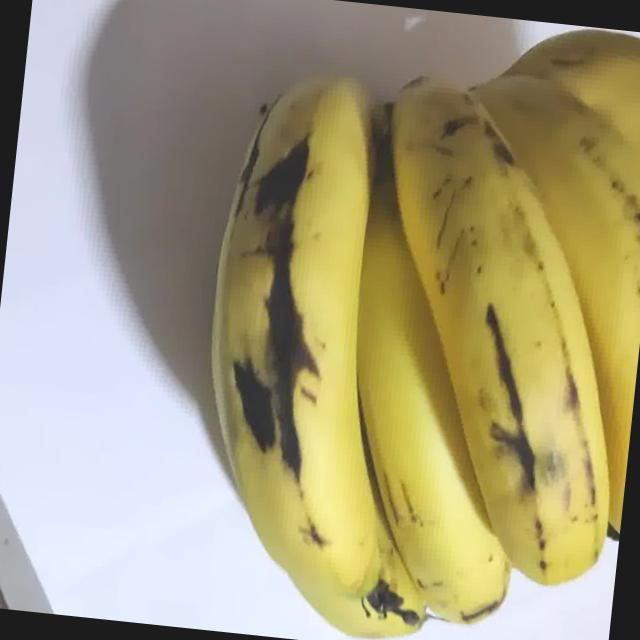banana_pacche: (84, 0, 640, 640)
